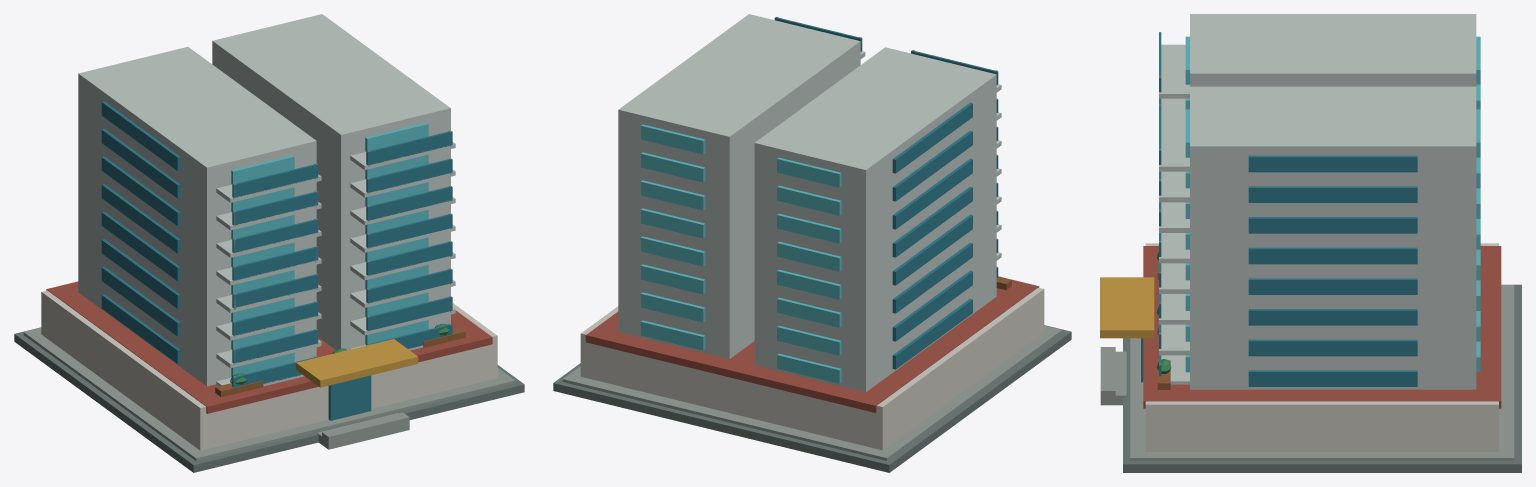
File: apartment_lv2.glb
3 renders of one model, left to right at view 1: azimuth 30°, elevation 25°; view 2: azimuth 150°, elevation 25°; view 3: azimuth 270°, elevation 25°, orthographic. The views are drawn at different scales.
Parts seen in each view (by area): view 1: rough, glossy; view 2: rough, glossy; view 3: rough, glossy.
Boxes of the visible parts, <box> form: rough: <box>14,14,524,472</box>; glossy: <box>101,101,452,420</box>; rough: <box>553,14,1071,472</box>; glossy: <box>641,17,998,383</box>; rough: <box>1100,14,1521,472</box>; glossy: <box>1141,33,1480,386</box>.
Bounding box in the file's own units: 9.8 × 7.71 × 9.73.
